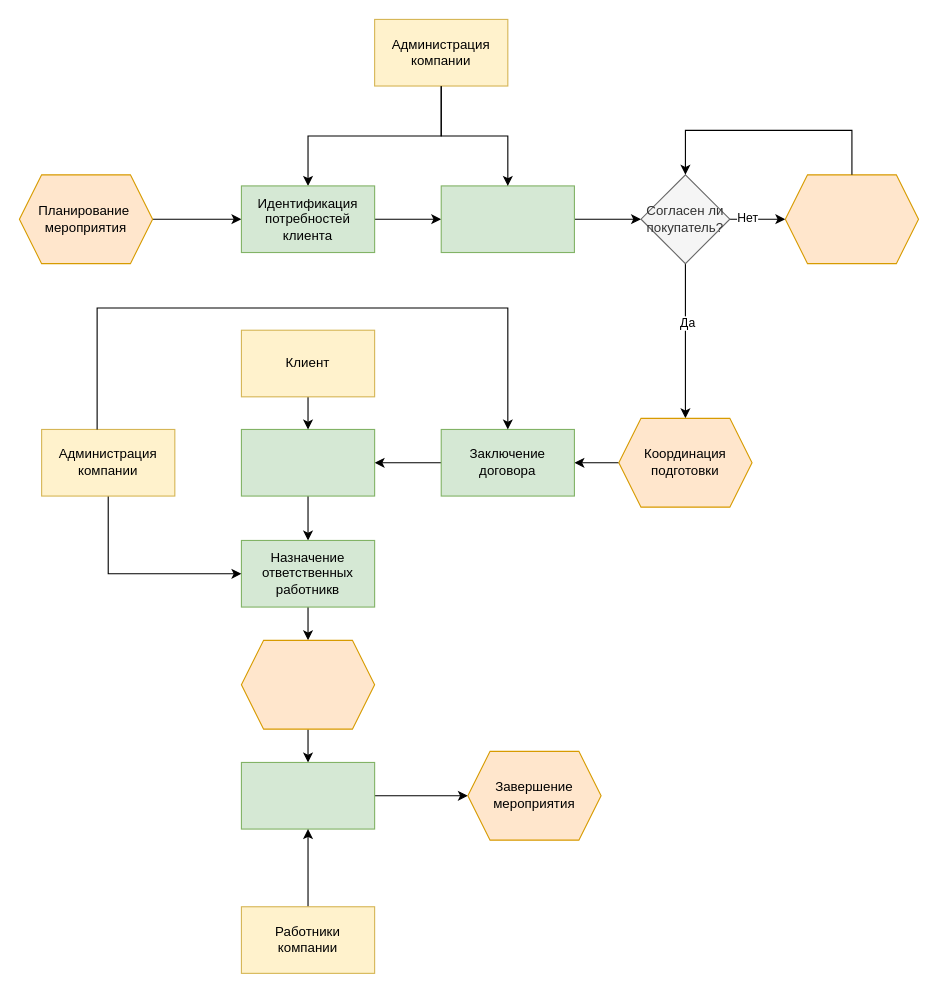
This 938x993 diagram has some shape labels left out. Each missing label, with the box of its shape:
Взаимодействие с клиентами и гостями: (240, 761, 375, 829)
Оплата: (240, 428, 375, 496)
Проведение мероприятия: (240, 639, 375, 729)
Разработка бюджета: (440, 185, 574, 253)
Рассмотрение других вариантов: (784, 174, 919, 264)
